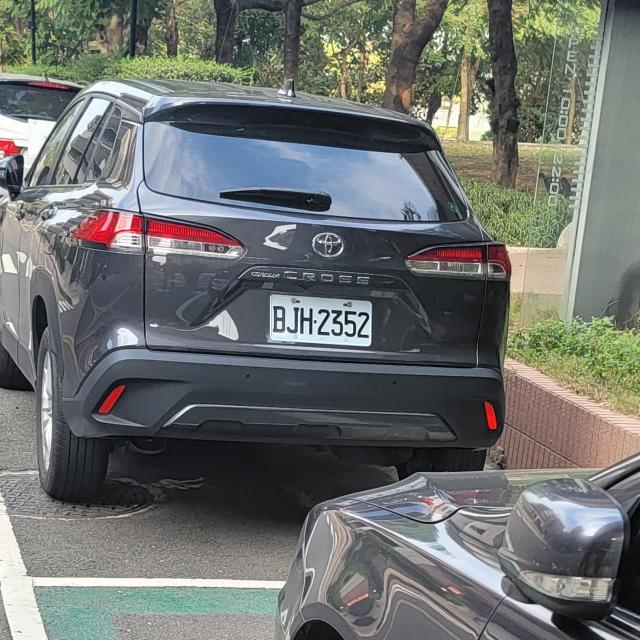W: (266, 292, 375, 350)
